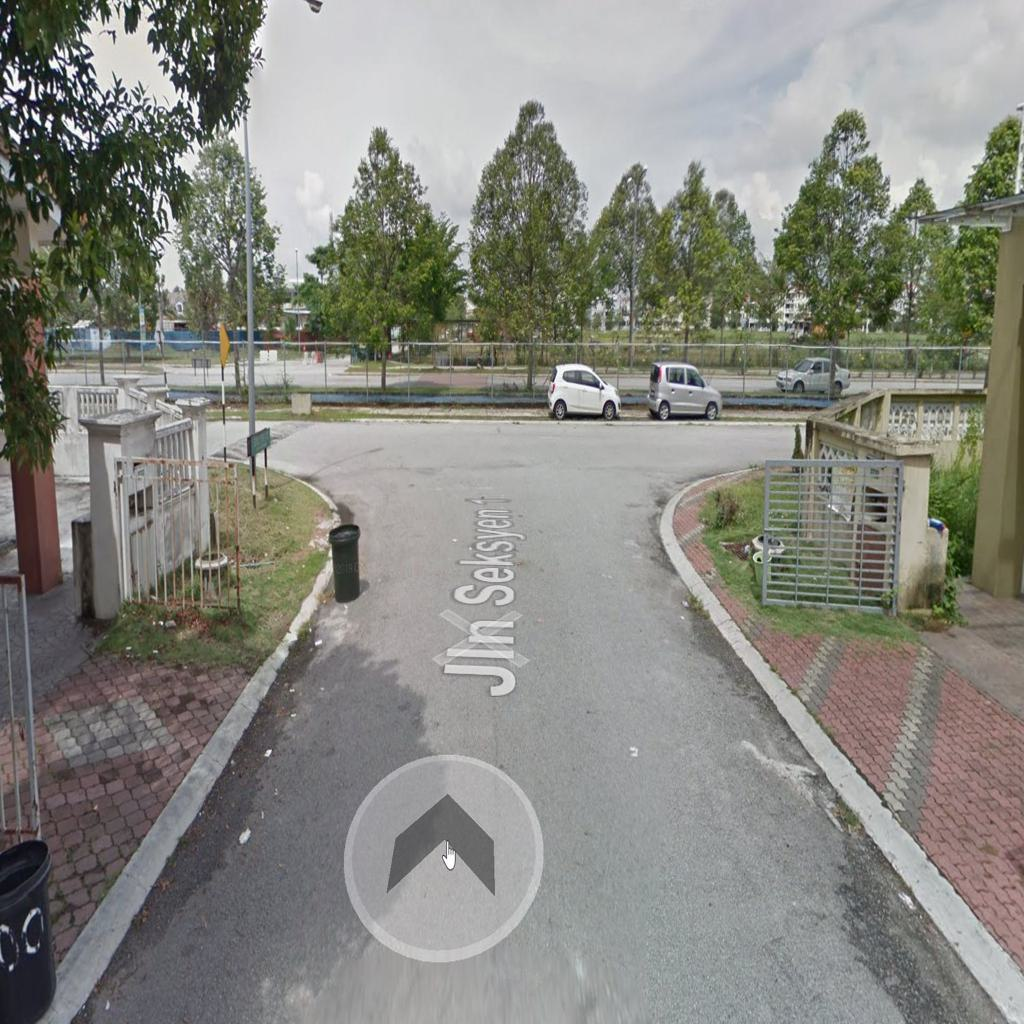Junction: (598, 395, 805, 535), (216, 391, 341, 527)
